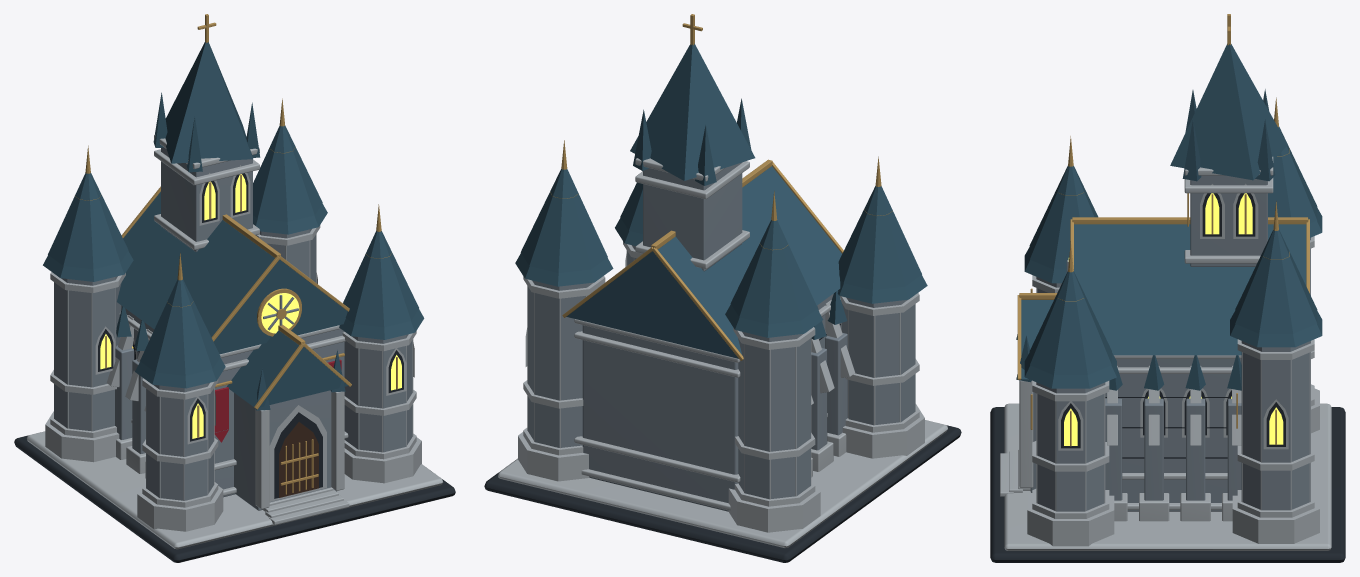
The model's file is gothic_keep_v1.glb.
3 views of the same model, side by side, from view 1: azimuth 30°, elevation 25°; view 2: azimuth 150°, elevation 25°; view 3: azimuth 270°, elevation 25° (orthographic). The views are drawn at different scales.
Visible parts, largest first — view 1: Great hall steep slate roof, Upper foundation, Octagonal tower shaft.002, Foundation / 128 x 128, Crown slate spire, Octagonal tower shaft, Octagonal tower shaft.001, Portal gable, Tower needle roof.002, Tower needle roof, Tower needle roof.001, Tower needle roof.003 (+31 smaller); view 2: Great hall, Great hall steep slate roof, Octagonal tower shaft.002, Upper foundation, Crown slate spire, Octagonal tower shaft.003, Foundation / 128 x 128, Octagonal tower shaft, Central belfry, Tower needle roof.002, Tower needle roof.003, Tower needle roof (+26 smaller); view 3: Great hall steep slate roof, Upper foundation, Octagonal tower shaft.003, Foundation / 128 x 128, Great hall, Crown slate spire, Octagonal tower shaft.001, Tower needle roof.001, Tower needle roof.003, Central belfry, Tower needle roof, Octagonal tower base.001 (+33 smaller).
Part boxes in pixels (<box>): Great hall steep slate roof: <box>117,191,347,354</box>; Upper foundation: <box>26,431,443,549</box>; Octagonal tower shaft.002: <box>54,276,121,431</box>; Foundation / 128 x 128: <box>14,435,455,562</box>; Crown slate spire: <box>165,42,253,163</box>; Octagonal tower shaft: <box>146,383,213,500</box>; Octagonal tower shaft.001: <box>344,334,412,452</box>; Portal gable: <box>227,330,348,407</box>; Tower needle roof.002: <box>48,173,128,269</box>; Tower needle roof: <box>140,279,220,375</box>; Tower needle roof.001: <box>343,231,418,327</box>; Tower needle roof.003: <box>253,125,322,221</box>; Great hall: <box>582,293,841,511</box>; Great hall steep slate roof: <box>566,166,841,358</box>; Octagonal tower shaft.002: <box>738,331,810,499</box>; Upper foundation: <box>498,420,947,547</box>; Crown slate spire: <box>630,43,755,180</box>; Octagonal tower shaft.003: <box>528,280,593,447</box>; Foundation / 128 x 128: <box>484,425,961,562</box>; Octagonal tower shaft: <box>842,297,915,425</box>; Central belfry: <box>643,162,742,271</box>; Tower needle roof.002: <box>730,220,817,324</box>; Tower needle roof.003: <box>520,169,607,272</box>; Tower needle roof: <box>838,186,921,290</box>; Great hall steep slate roof: <box>1074,224,1306,355</box>; Upper foundation: <box>1004,403,1331,550</box>; Octagonal tower shaft.003: <box>1241,341,1310,510</box>; Foundation / 128 x 128: <box>990,407,1345,562</box>; Great hall: <box>1105,359,1241,511</box>; Crown slate spire: <box>1170,44,1287,180</box>; Octagonal tower shaft.001: <box>1036,382,1105,511</box>; Tower needle roof.001: <box>1029,271,1111,375</box>; Tower needle roof.003: <box>1235,230,1317,333</box>; Central belfry: <box>1190,175,1267,266</box>; Tower needle roof: <box>1029,166,1098,269</box>; Octagonal tower base.001: <box>1027,493,1114,546</box>.
Bounding box in the file's own units: 128 × 189 × 128.
